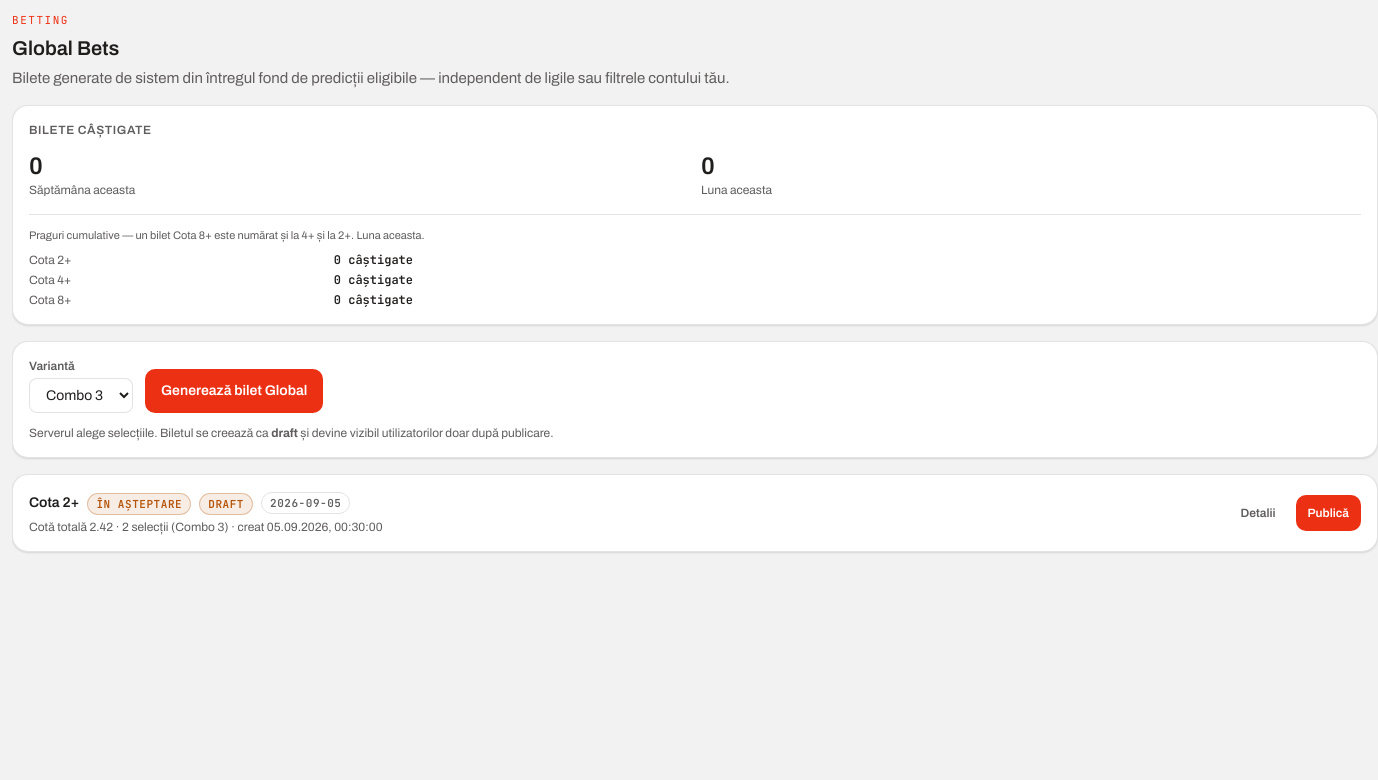
it: publishing › surfaces an already-published conflict without inventing a failure
This screenshot has width=1378, height=780.
Step 1. Click the button "Publică" → (1328, 513), box [1296,495,1361,531]
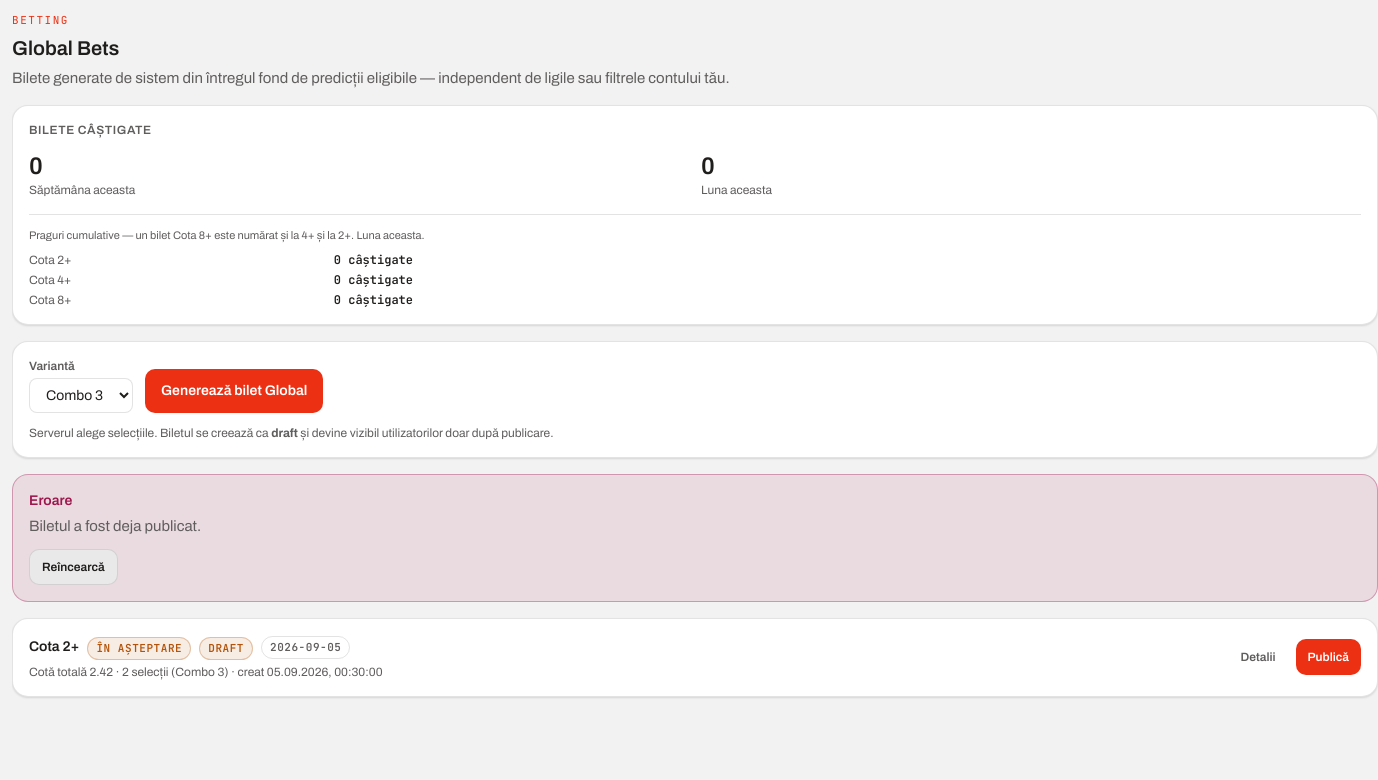
expect the text "Biletul a fost deja publicat." is shown: met, box [29,518,201,534]
